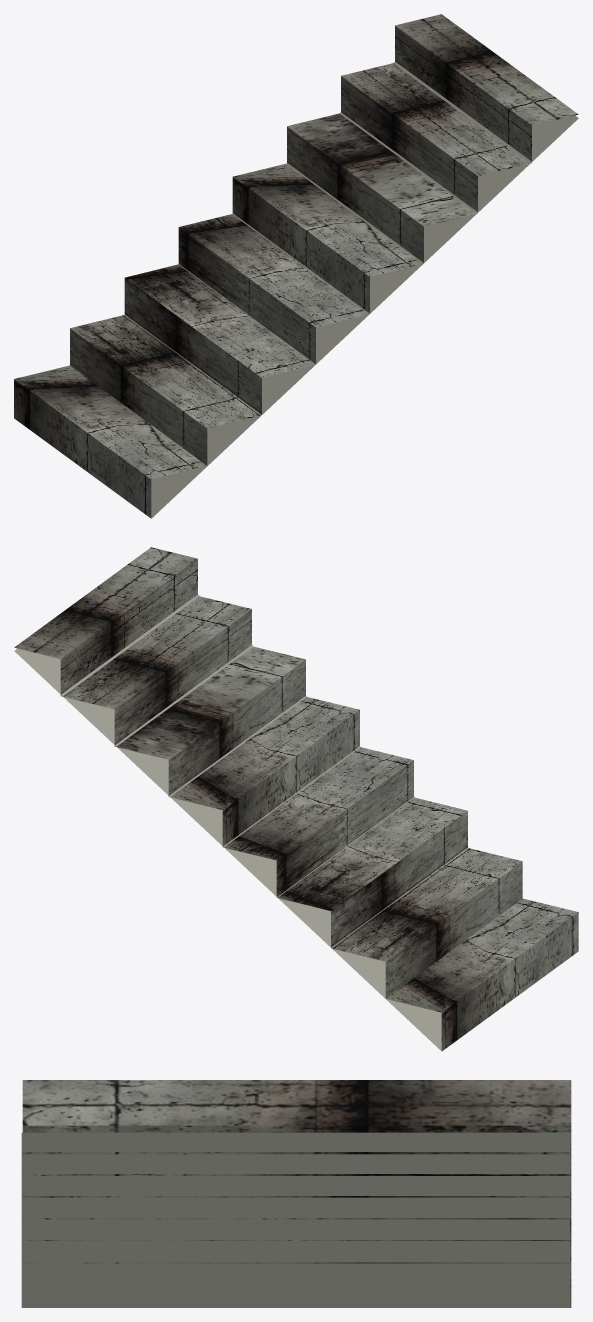
The model's file is escalerasLargasInd.glb.
The picture shows the model from 3 angles, top to bottom: view 1: azimuth 30°, elevation 25°; view 2: azimuth 150°, elevation 25°; view 3: azimuth 270°, elevation 25°; orthographic projection. The views are drawn at different scales.
Visible parts, largest first — view 1: Cubo.002; view 2: Cubo.002; view 3: Cubo.002.
Boxes of the visible parts, bbox=[...] form: Cubo.002: bbox=[14, 14, 578, 518]; Cubo.002: bbox=[14, 547, 578, 1051]; Cubo.002: bbox=[21, 1080, 571, 1307].
Bounding box in the file's own units: 9 × 6.03 × 5.01.
1 material, 1 textured.
